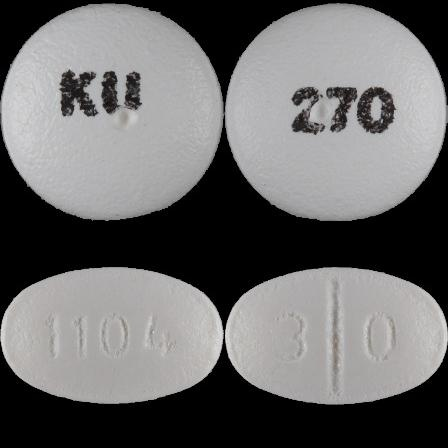35356-991: (0, 0, 224, 224)
